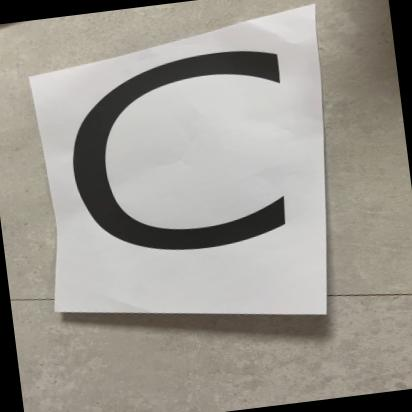seat: (15, 22, 324, 337)
